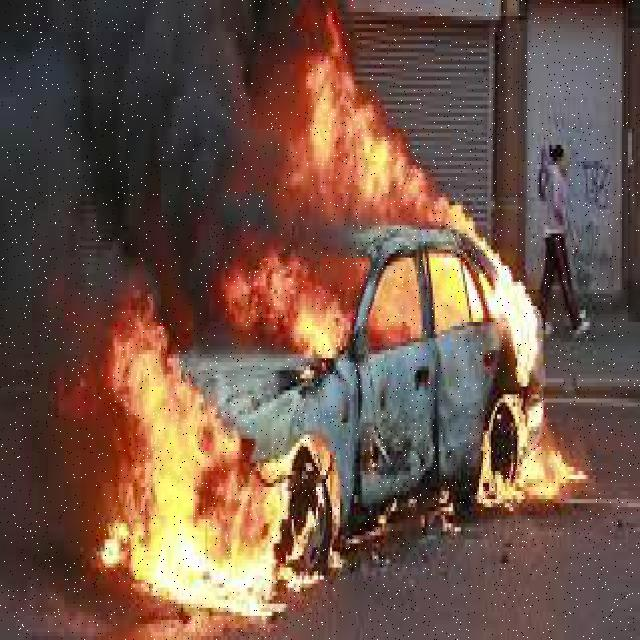fire: (116, 319, 292, 604), (290, 56, 444, 270), (490, 247, 572, 517)
smoke: (49, 1, 265, 278)
